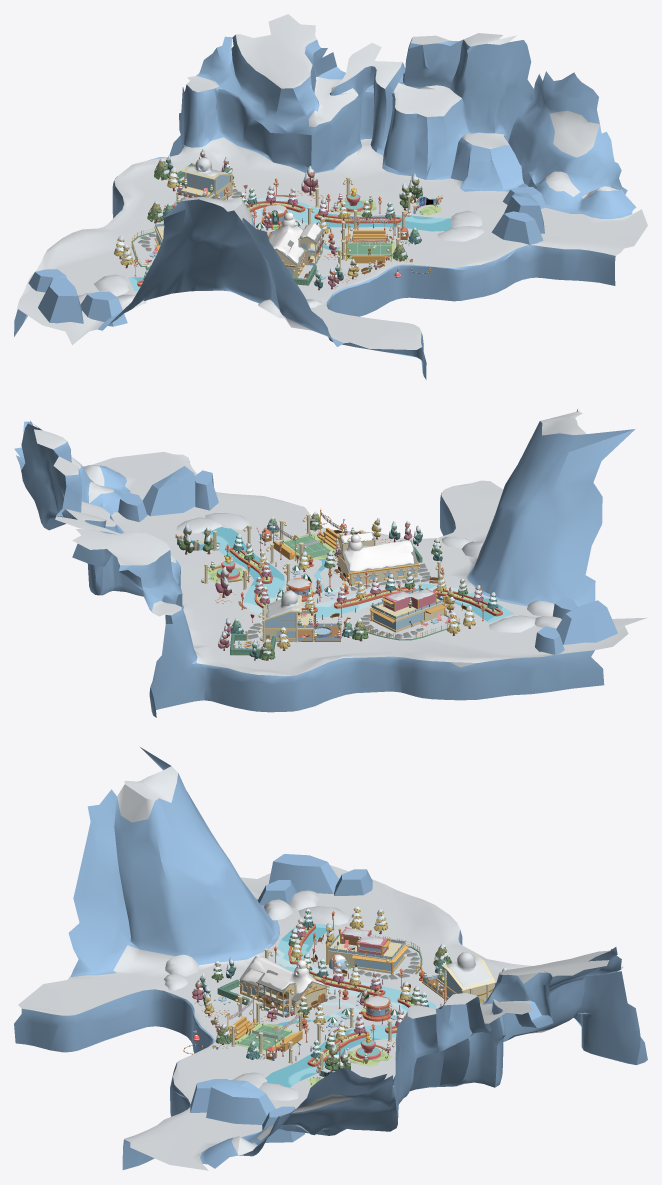
The model's file is Individual_BeverlyChills_EASTER_01.fbx.
3 renders of one model, top to bottom at view 1: azimuth 30°, elevation 25°; view 2: azimuth 150°, elevation 25°; view 3: azimuth 270°, elevation 25°, orthographic. The views are drawn at different scales.
Parts seen in each view (by area): view 1: pasted__BeverlyChillsRoad_01, pasted__polySurface154, pasted__Object_IceRock4, polySurface9, pasted__Object_IceRock8, pasted__Object_IceRock3, pasted__Object_RoadIslands, pasted__Object_IceRock6, pasted__Building_TennisCourt2, pasted__SnowPatch6, pasted__SnowPatch8, pasted__Object_IceRock5; view 2: pasted__BeverlyChillsRoad_01, pasted__polySurface154, polySurface9, pasted__Building_LuxuryHouse3, pasted__Object_IceRock6, pasted__Object_IceRock4, pasted__Object_RoadIslands, pasted__Object_IceRock8, pasted__Object_IceRock5, pasted__Object_IceRock7, pasted__SnowPatch8, pasted__Building_TennisCourt2 (+3 smaller); view 3: pasted__BeverlyChillsRoad_01, pasted__polySurface154, pasted__Object_IceRock6, pasted__Building_LuxuryHouse3, pasted__Object_IceRock4, polySurface9, pasted__Object_RoadIslands, pasted__Object_IceRock5, pasted__Object_IceRock7, pasted__Object_IceRock3, pasted__SnowPatch8, pasted__Building_RoundCoffeeShop1.
Boxes of the visible parts, x1,y1,x2,y2 form: pasted__BeverlyChillsRoad_01: (14,14,647,379); pasted__polySurface154: (267,212,323,277); pasted__Object_IceRock4: (38,277,83,323); polySurface9: (171,157,230,208); pasted__Object_IceRock8: (491,211,543,244); pasted__Object_IceRock3: (80,291,127,326); pasted__Object_RoadIslands: (137,201,401,286); pasted__Object_IceRock6: (504,192,544,233); pasted__Building_TennisCourt2: (346,243,391,256); pasted__SnowPatch6: (437,226,484,241); pasted__SnowPatch8: (94,274,129,296); pasted__Object_IceRock5: (28,269,66,292); pasted__BeverlyChillsRoad_01: (14,409,647,717); pasted__polySurface154: (336,533,418,585); polySurface9: (263,590,341,641); pasted__Building_LuxuryHouse3: (372,588,443,632); pasted__Object_IceRock6: (142,466,196,516); pasted__Object_IceRock4: (556,600,617,644); pasted__Object_RoadIslands: (229,547,502,616); pasted__Object_IceRock8: (195,470,218,510); pasted__Object_IceRock5: (535,626,564,654); pasted__Object_IceRock7: (118,493,147,521); pasted__SnowPatch8: (489,615,535,632); pasted__Building_TennisCourt2: (284,536,332,558); pasted__BeverlyChillsRoad_01: (14,747,647,1170); pasted__polySurface154: (239,956,329,1017); pasted__Object_IceRock6: (206,1079,275,1124); pasted__Building_LuxuryHouse3: (328,927,405,973); pasted__Object_IceRock4: (268,854,338,893); polySurface9: (422,952,495,1001); pasted__Object_RoadIslands: (288,924,414,1066); pasted__Object_IceRock5: (334,869,372,895); pasted__Object_IceRock7: (262,1106,304,1142); pasted__Object_IceRock3: (257,880,296,905); pasted__SnowPatch8: (298,906,349,925); pasted__Building_RoundCoffeeShop1: (359,995,392,1021).
Size of the model in its own units: 11927 by 3384 by 10397.
